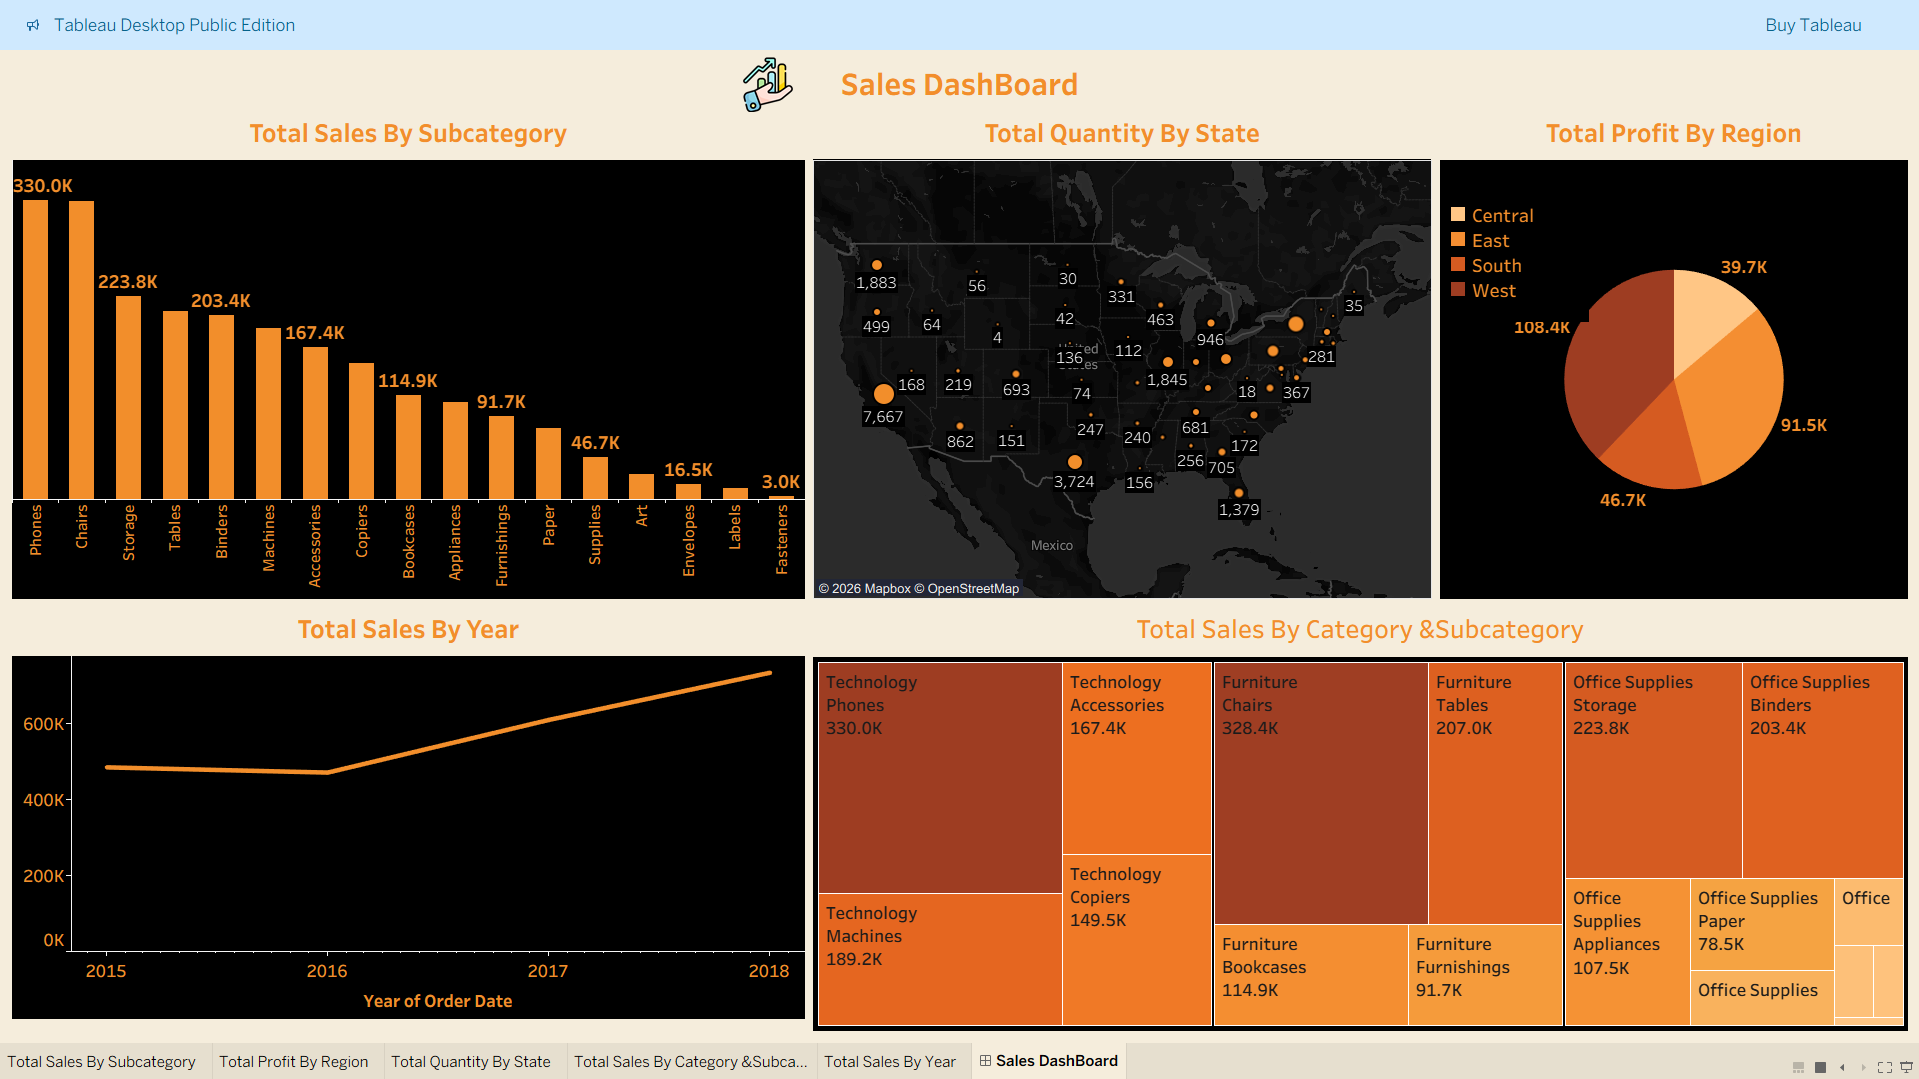

This screenshot's page, from the dashboard's own definition file:
{"tool":"tableau","page":{"name":"Sales DashBoard","canvas":[1000,1000],"units":"permille","ordinal":0},"visuals":[{"type":"image","param":"D:/Route/Tableau/Session1/sales.png","box":[385.6,7,42.9,55.8]},{"type":"title","box":[4.8,9.3,990.3,56.9]},{"type":"worksheet","title":"Total Sales By Subcategory","mark":"Automatic","rows":["Sales"],"cols":["Sub-Category"],"box":[4.8,66.2,416.4,494.2]},{"type":"worksheet","title":"Total Quantity By State","mark":"Automatic","box":[421.2,66.2,326.4,494.2]},{"type":"worksheet","title":"Total Profit By Region","mark":"Pie","box":[747.6,66.2,247.6,494.2]},{"type":"legend","title":"Total Profit By Region","param":"[federated.101h38r1wrf30n1fxcozq0f4ioc2].[none:Region:nk]","box":[753.2,128.9,74.2,145.2]},{"type":"worksheet","title":"Total Sales By Year","mark":"Automatic","rows":["Sales"],"cols":["Order Date"],"box":[4.8,560.4,416.4,430.3]},{"type":"worksheet","title":"Total Sales By Category &Subcategory","mark":"Automatic","box":[421.2,560.4,573.9,430.3]}]}

Visuals, with their boxes on the dashboard's canvas, which has no fixed pixel size, in thousandths of its width and height (x1, y1, x2, y2). These are canvas units, not pixel positions in the 1919x1079 screenshot, which may show the page scaled, cropped or inside an application window:
image: box=[386, 7, 428, 63]
title: box=[5, 9, 995, 66]
"Total Sales By Subcategory" worksheet: box=[5, 66, 421, 560]
"Total Quantity By State" worksheet: box=[421, 66, 748, 560]
"Total Profit By Region" worksheet (Pie marks): box=[748, 66, 995, 560]
"Total Profit By Region" legend: box=[753, 129, 827, 274]
"Total Sales By Year" worksheet: box=[5, 560, 421, 991]
"Total Sales By Category &Subcategory" worksheet: box=[421, 560, 995, 991]
